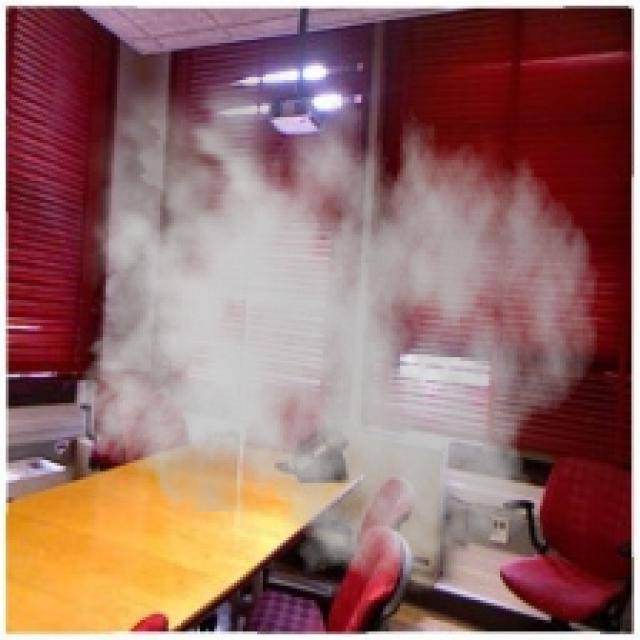Smoke: (60, 51, 600, 594)
